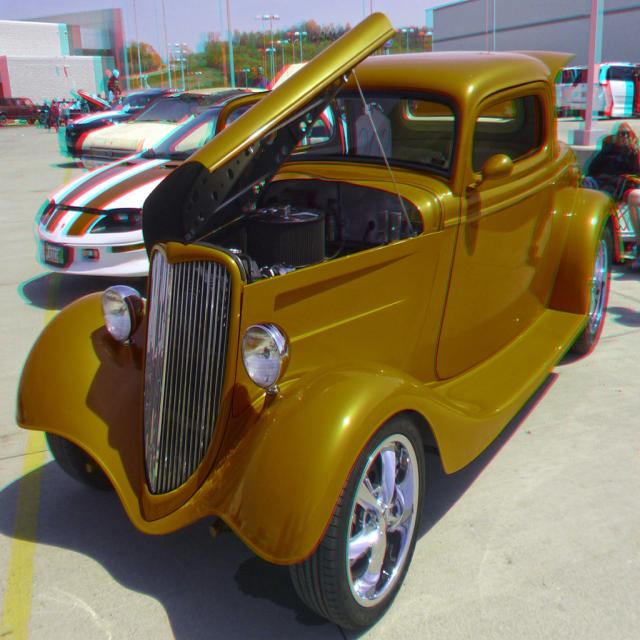car: (13, 11, 625, 630)
